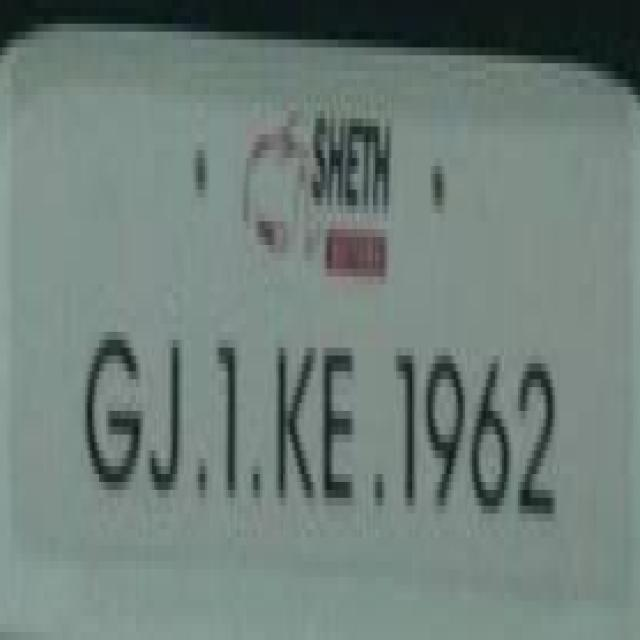license_plate: (34, 63, 640, 584)
